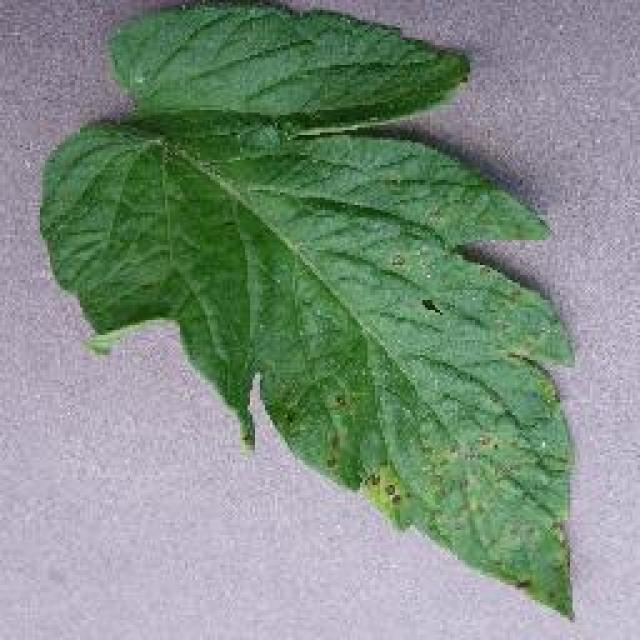Tomato___Septoria_leaf_spot: (40, 0, 568, 612)
